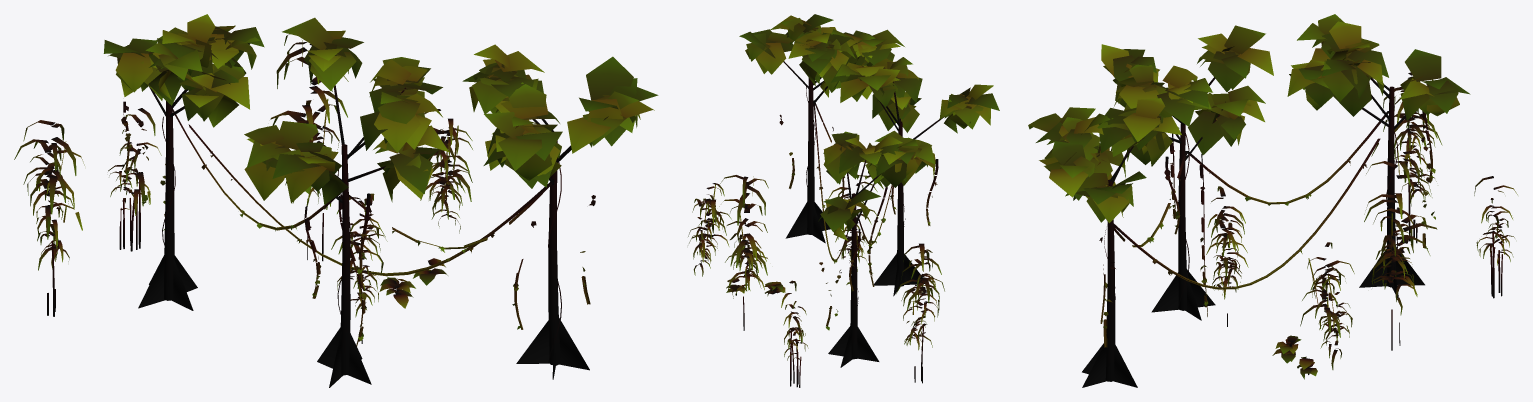
Rendered from patch_grove_far.glb.
3 renders of one model, left to right at view 1: azimuth 30°, elevation 25°; view 2: azimuth 150°, elevation 25°; view 3: azimuth 270°, elevation 25°, orthographic. The views are drawn at different scales.
Parts seen in each view (by area): view 1: patch_grove_far; view 2: patch_grove_far; view 3: patch_grove_far.
Part boxes in pixels (x1,y1,x2,y2): patch_grove_far: (14, 14, 658, 387); patch_grove_far: (688, 14, 999, 387); patch_grove_far: (1028, 14, 1517, 387).
Size of the model in its own units: 17.79 by 11.93 by 19.03.
1 material, 1 textured.
